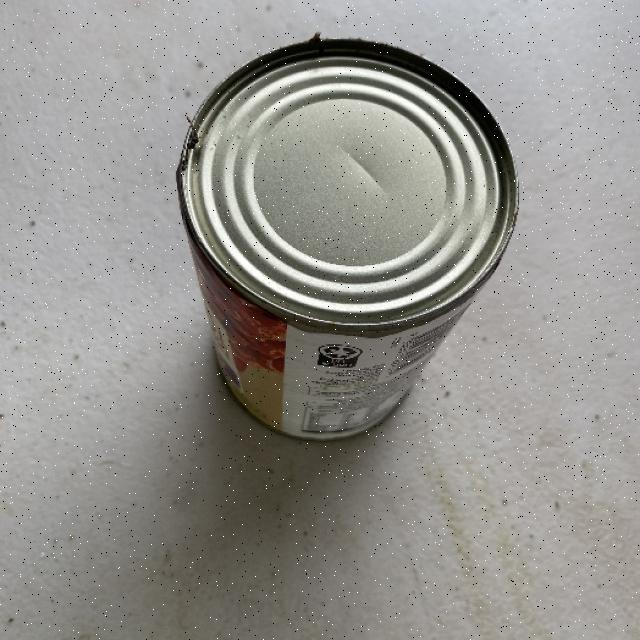metal: (175, 32, 519, 441)
